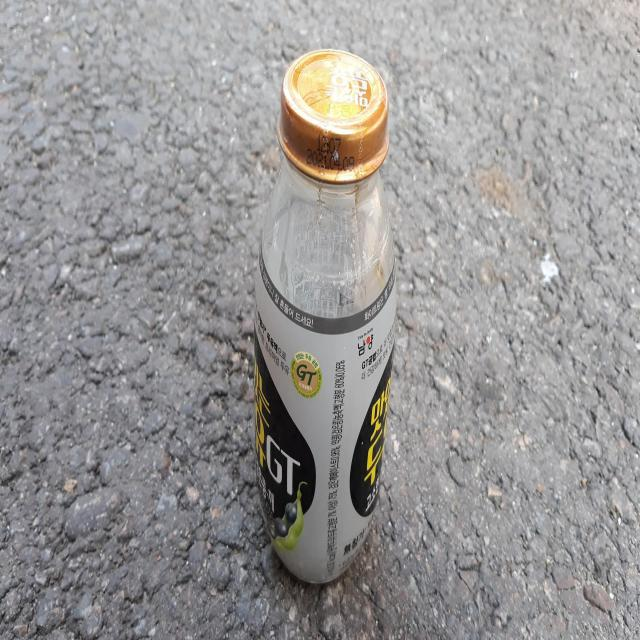glass: (255, 49, 397, 583)
